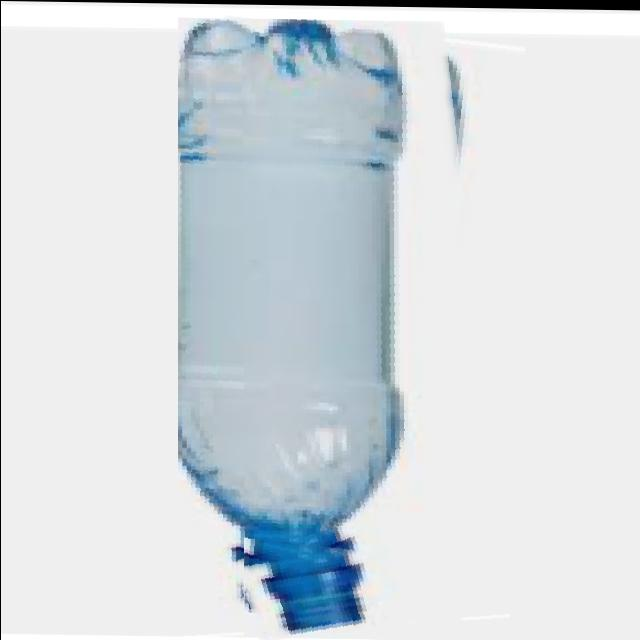litter: (177, 16, 509, 640), (243, 536, 404, 636)
